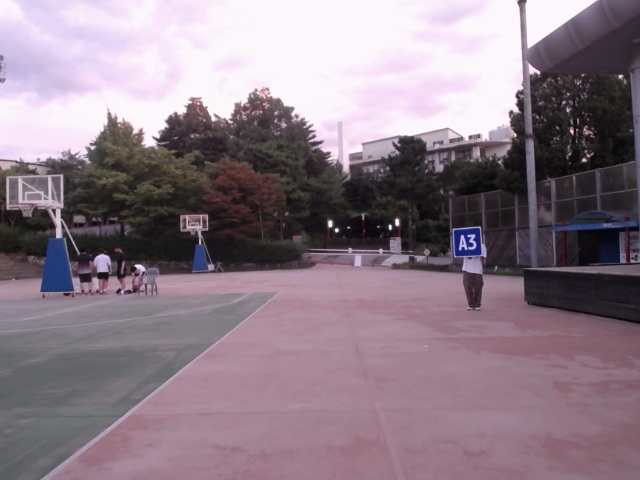delivery_a3: (453, 227, 482, 257)
